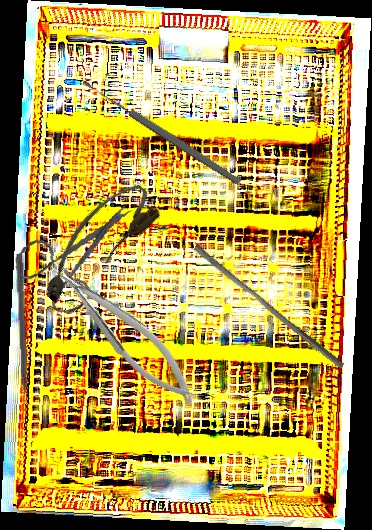Cannula: (25, 175, 166, 310)
Iris Scissors: (8, 187, 136, 321)
Needle Holder: (42, 245, 207, 417)
Pusher: (188, 243, 350, 370), (14, 253, 29, 416)
Surgical Spoon: (80, 76, 243, 188)
